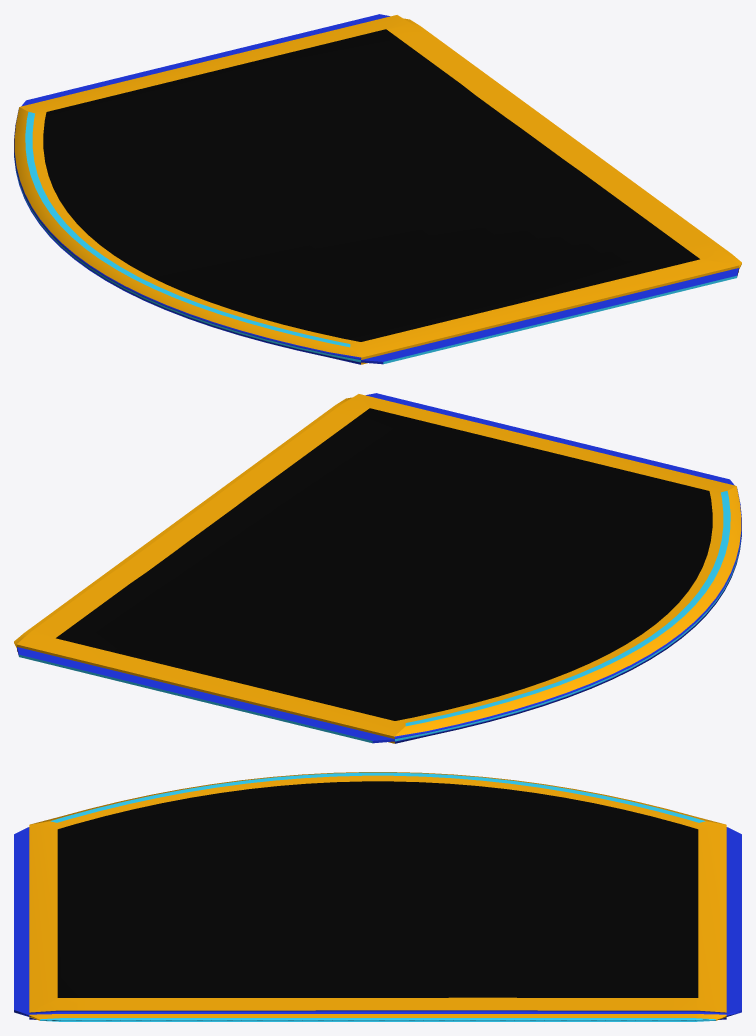
The model's file is Upper Jump Pad Platforms.FBX.
The picture shows the model from 3 angles, top to bottom: view 1: azimuth 30°, elevation 25°; view 2: azimuth 150°, elevation 25°; view 3: azimuth 270°, elevation 25°; orthographic projection.
Visible parts, largest first — view 1: Box075; view 2: Box075; view 3: Box075.
Part boxes in pixels (x1,y1,x2,y2): Box075: (14,14,741,364); Box075: (14,393,741,743); Box075: (14,772,741,1021).
Bounding box in the file's own units: 31.19 × 0.8082 × 39.05.
